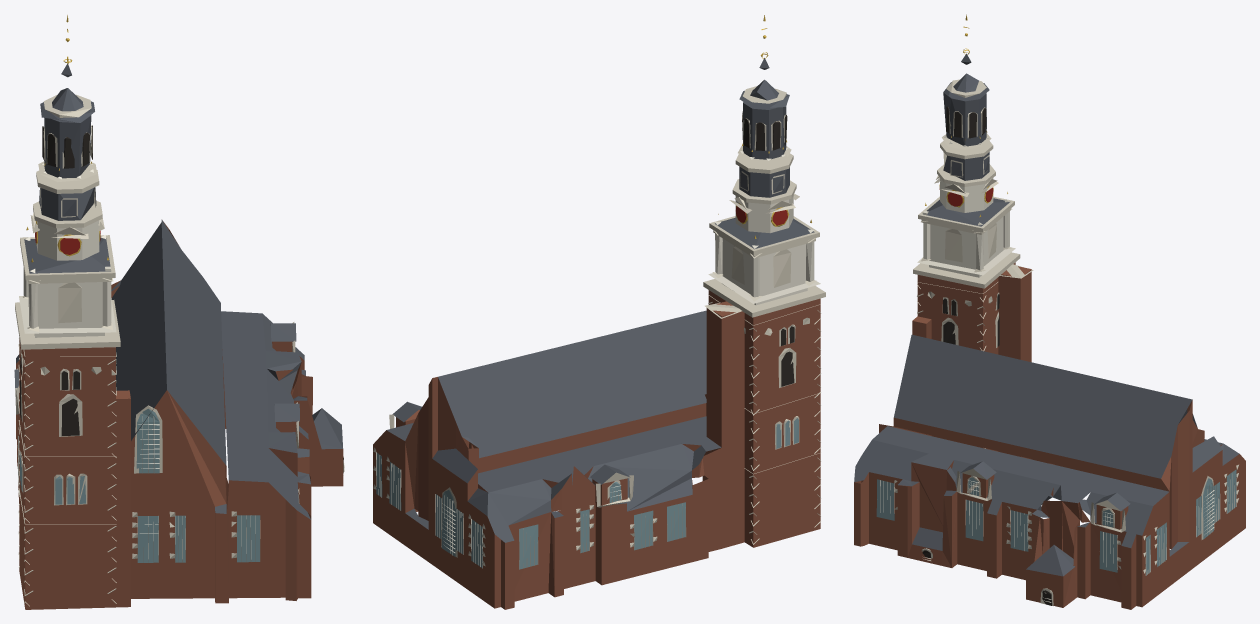
File: zuiderkerk.lod1.glb
The picture shows the model from 3 angles, left to right: view 1: azimuth 30°, elevation 25°; view 2: azimuth 150°, elevation 25°; view 3: azimuth 270°, elevation 25°; orthographic projection. The views are drawn at different scales.
Parts seen in each view (by area): view 1: zuiderkerk; view 2: zuiderkerk; view 3: zuiderkerk.
Part boxes in pixels (x1=…): zuiderkerk: x1=14, y1=15, x2=344, y2=609; zuiderkerk: x1=373, y1=15, x2=825, y2=609; zuiderkerk: x1=854, y1=14, x2=1245, y2=609.
Size of the model in its own units: 47.84 by 66.3 by 50.86.
